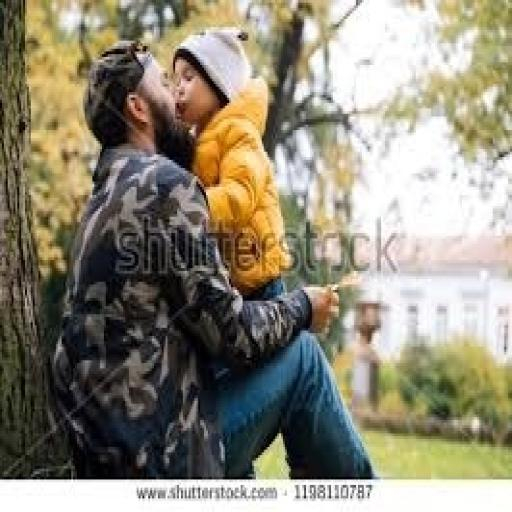hugging: (48, 30, 377, 479)
